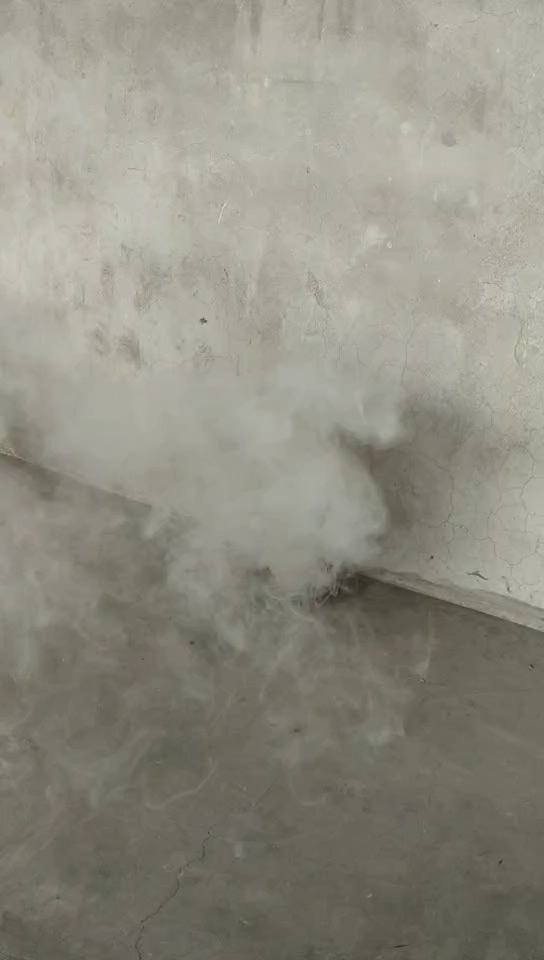smoke: (44, 380, 385, 710)
